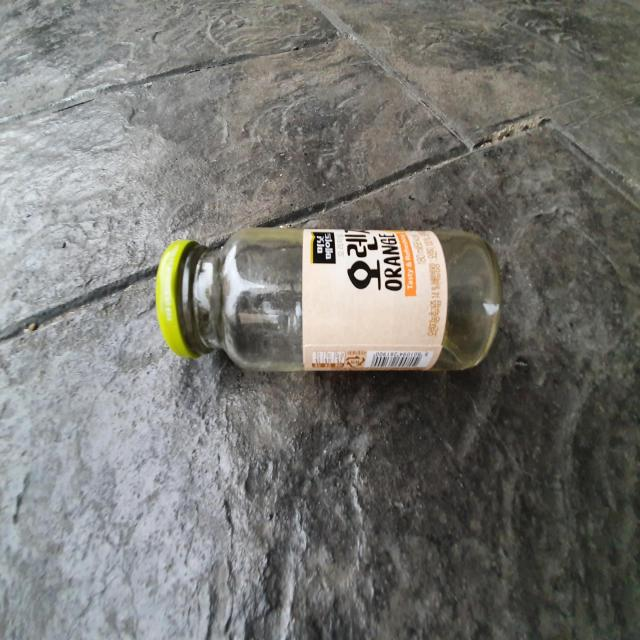glass: (156, 228, 502, 371)
